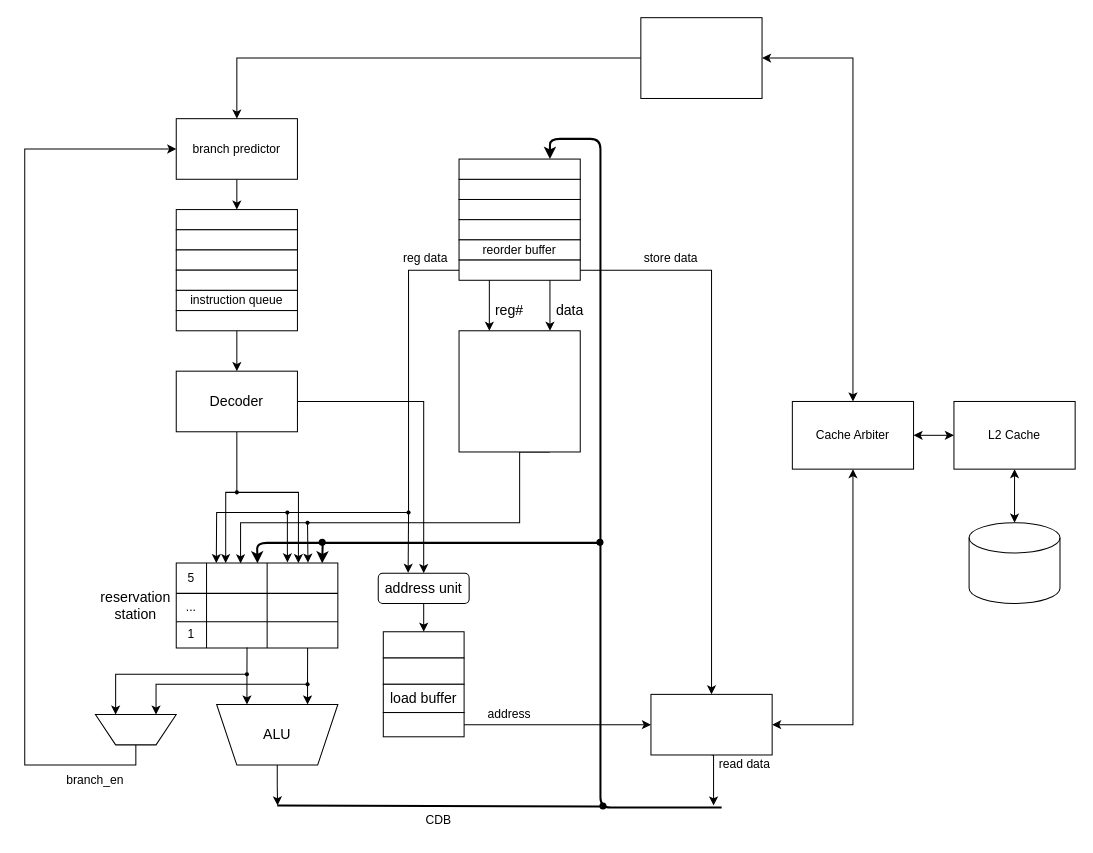
Some shapes in this 1093 by 853 pixel diagram are drawn without their labels. The centre of each missing label's shape, as x and y in pixels:
CMP: the point at 135,729
Data Cache: the point at 711,724
Instruction Cache: the point at 701,57
Memory: the point at 1014,562
register file: the point at 519,391
